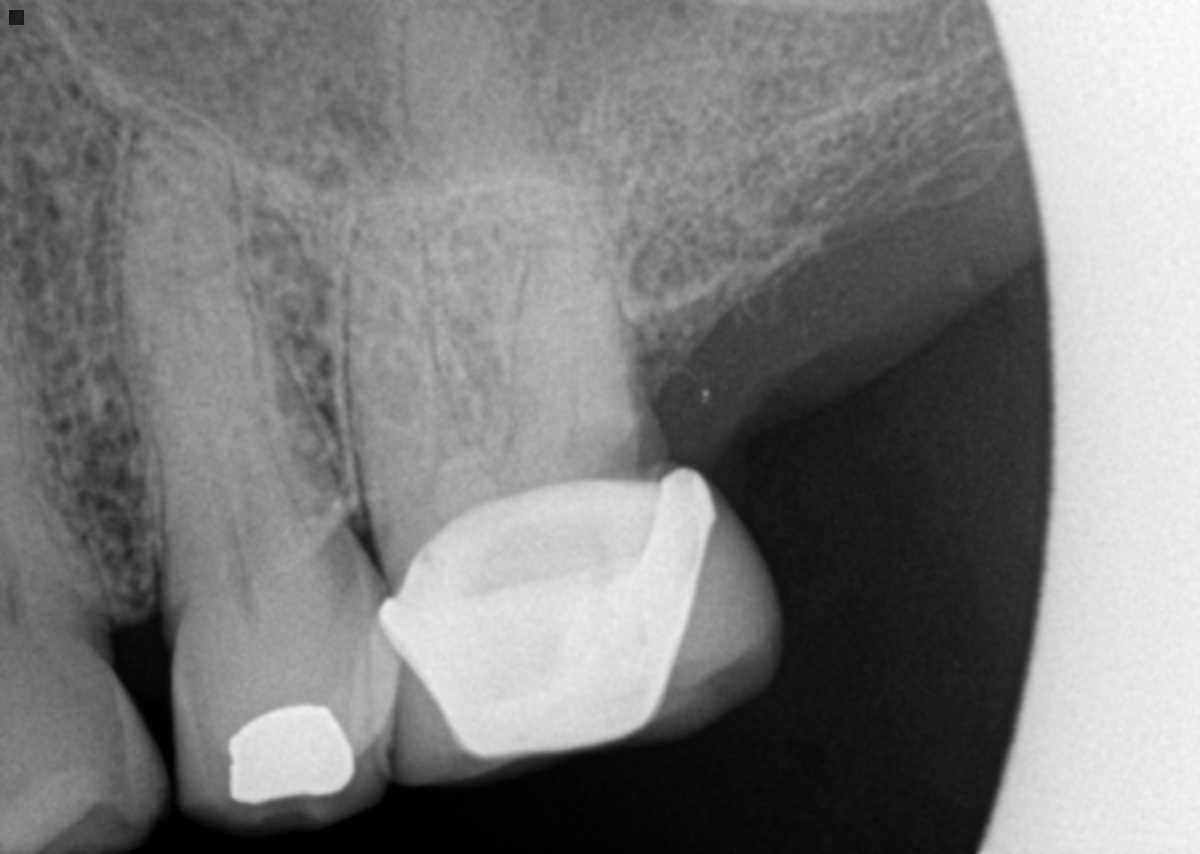Distal Canal: (570, 335, 585, 435)
Distal Root: (510, 164, 637, 436)
Main Canal: (187, 319, 247, 565)
Main Root: (121, 115, 344, 589), (0, 272, 106, 616)
Mesial Root: (347, 170, 466, 500)
Palatal Root: (399, 0, 650, 463)
